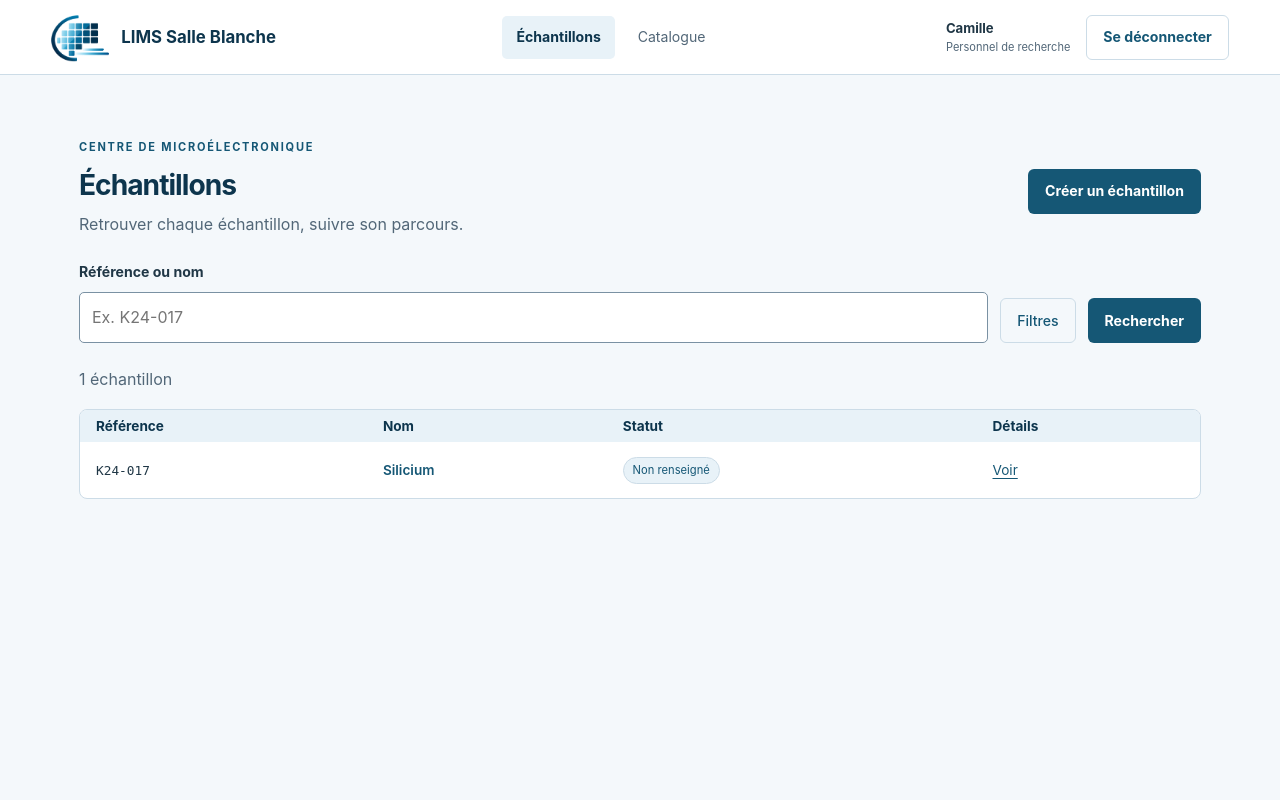
it: Gestion des échantillons via le client HTTP authentifié › crée sans identité client puis ouvre le détail
The width and height of the screenshot is (1280, 800).
Click the link "Créer un échantillon".
click(1115, 192)  # box [1028,169,1201,214]
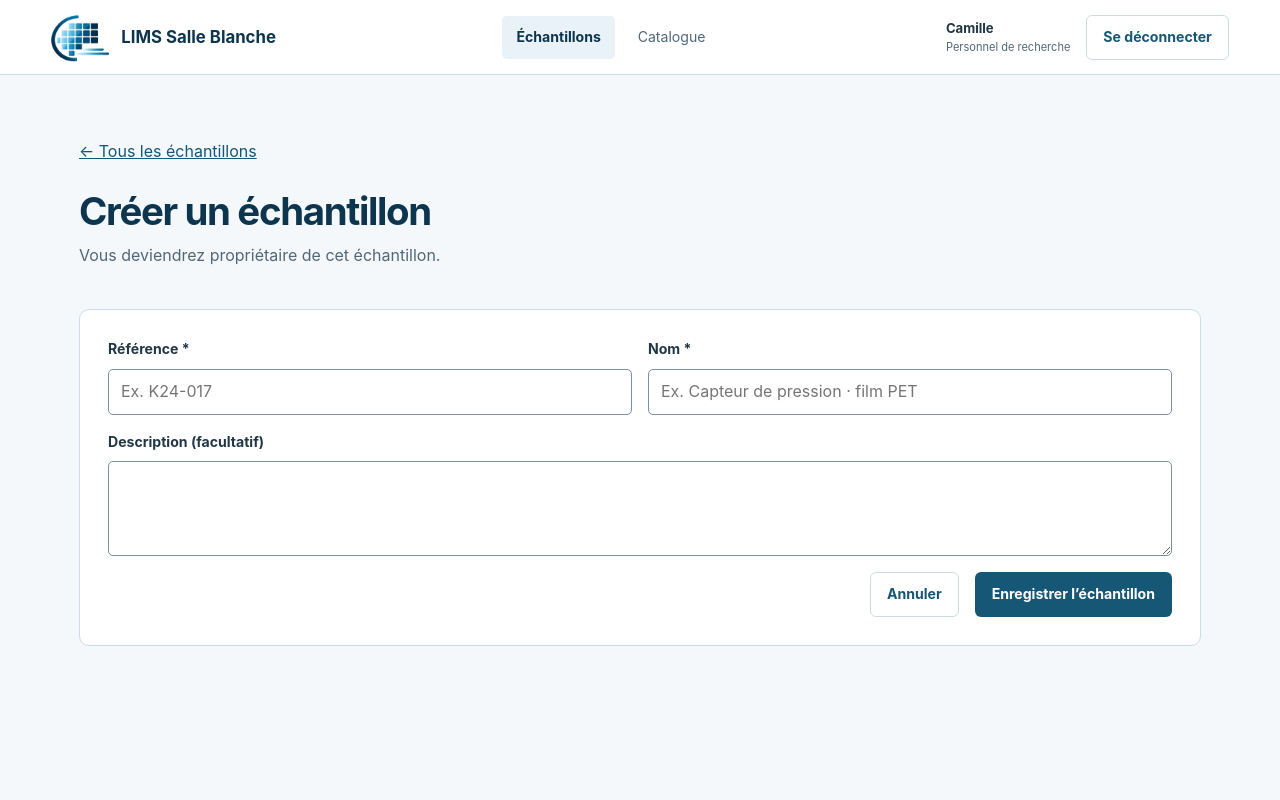
Type " K24-017 " into the field labelled "Référence *".
click(370, 392); type(" K24-017 ")  # box [108,369,632,415]
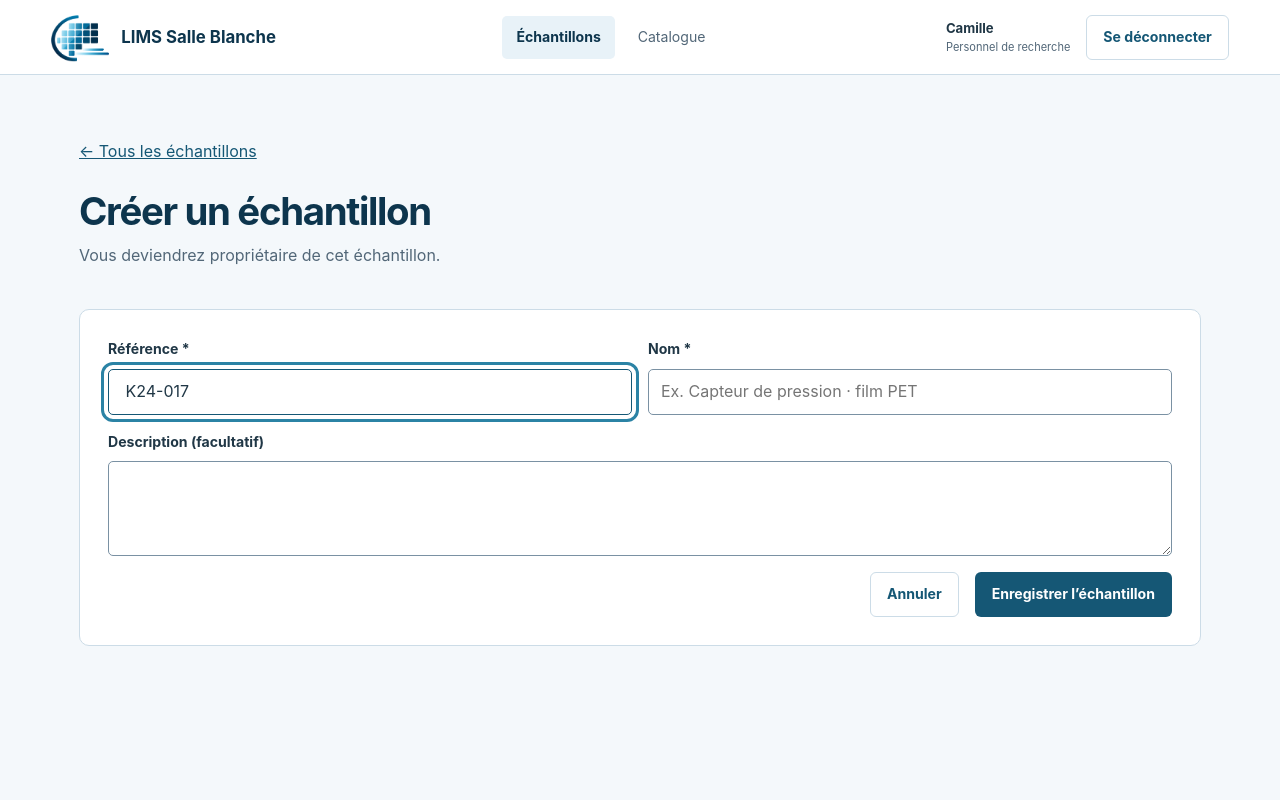
Type " Silicium " into the field labelled "Nom *".
click(910, 392); type(" Silicium ")  # box [648,369,1172,415]
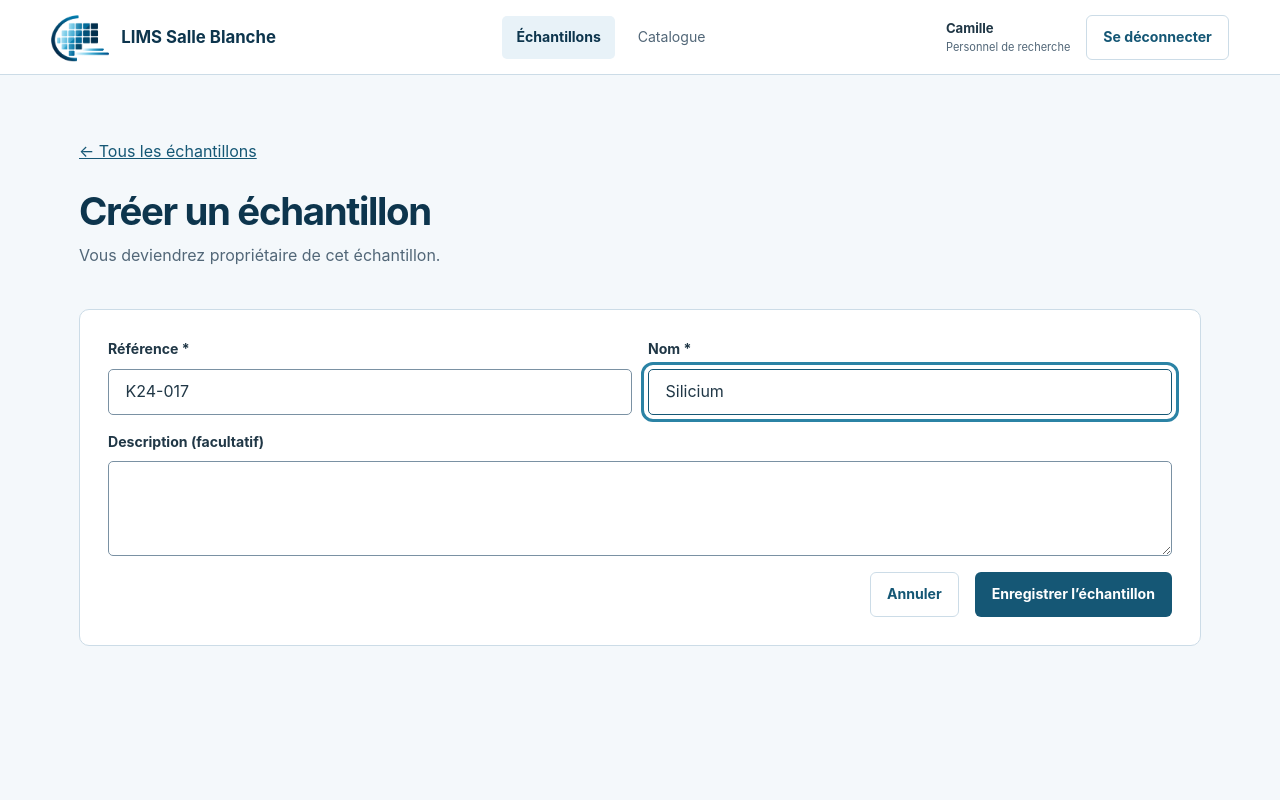
Type "Dépôt initial" into the text box labelled "Description (facultatif)".
click(640, 508); type("Dépôt initial")  # box [108,461,1172,556]
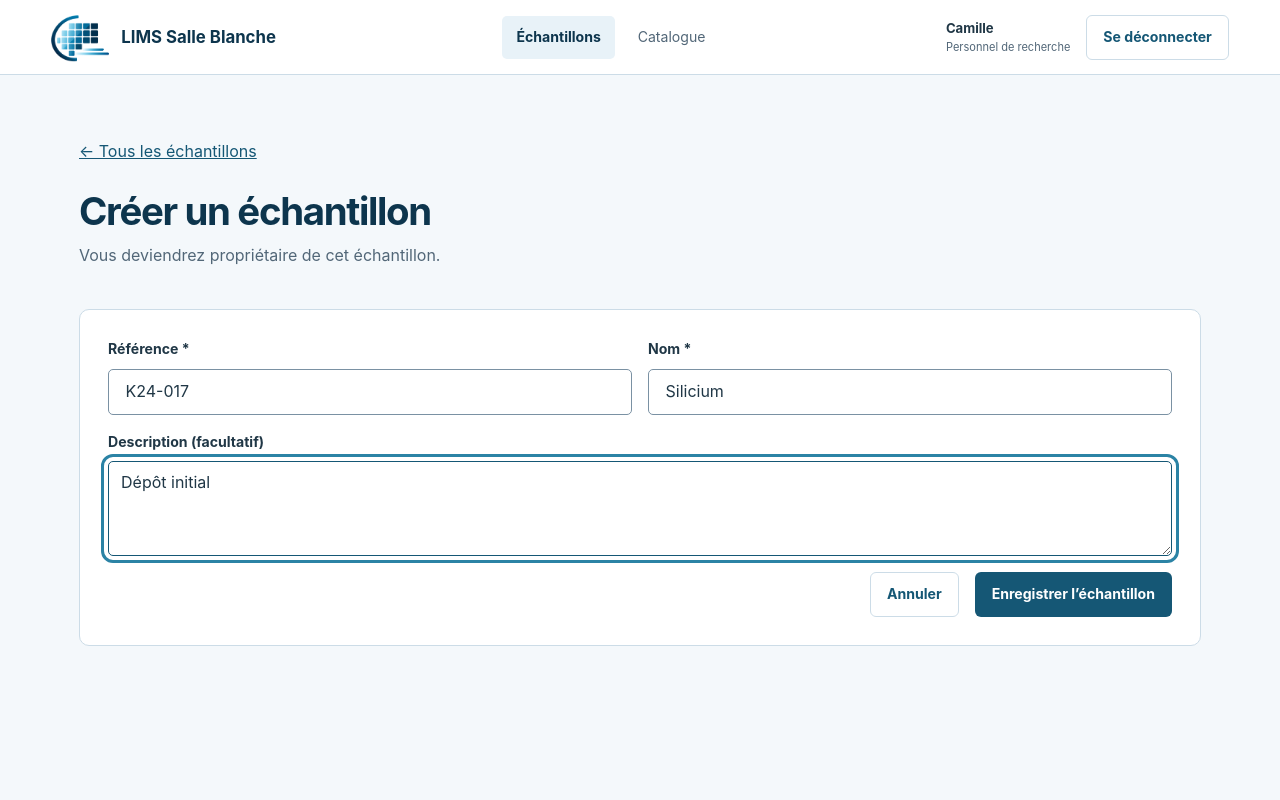
Click the button "Enregistrer l’échantillon".
click(1073, 595)  # box [975,572,1172,617]
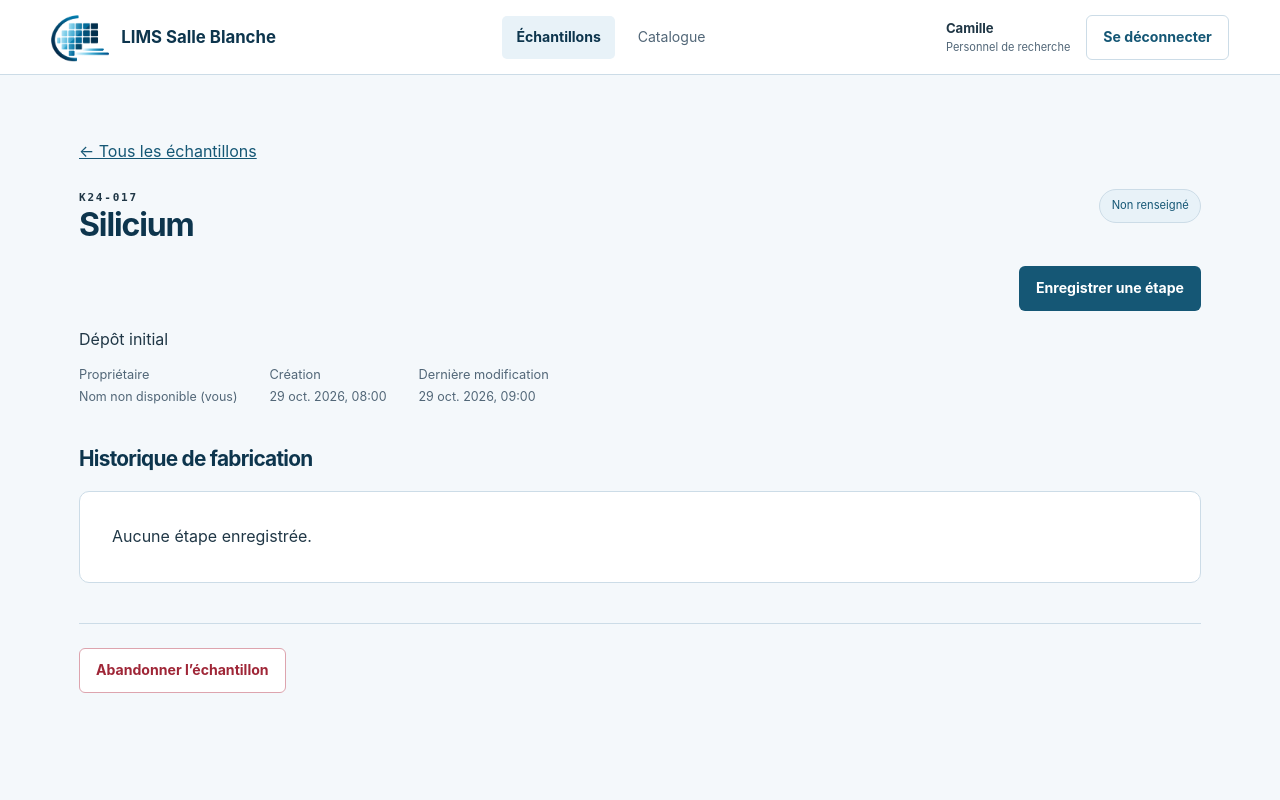
Expected: the heading "Silicium" is shown, [79,207,194,243]
